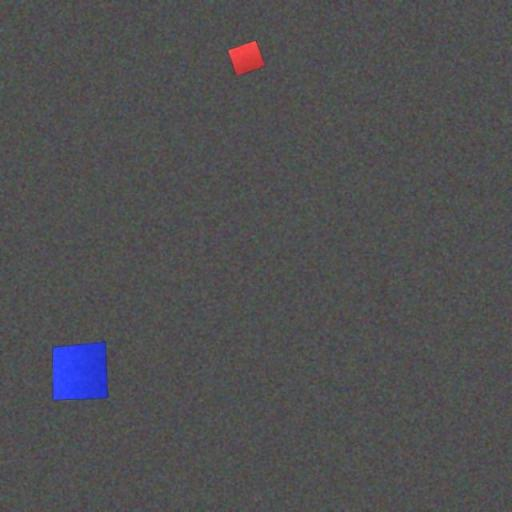BLUE_SQUARE: (52, 341, 109, 401)
RED_SQUARE: (228, 39, 266, 78)
